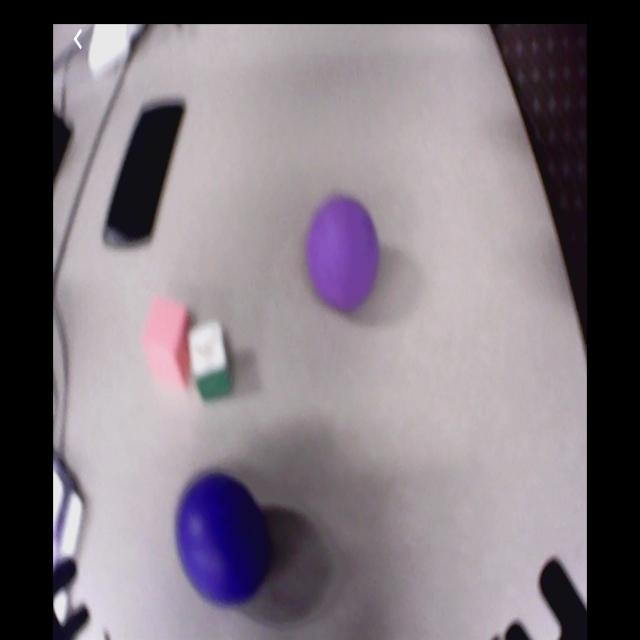ball: (178, 475, 268, 604), (309, 197, 378, 310)
